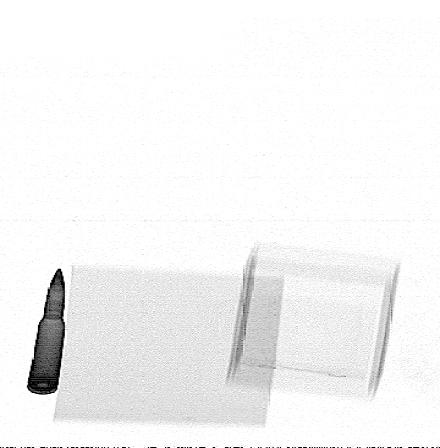Bullet: (26, 265, 65, 395)
